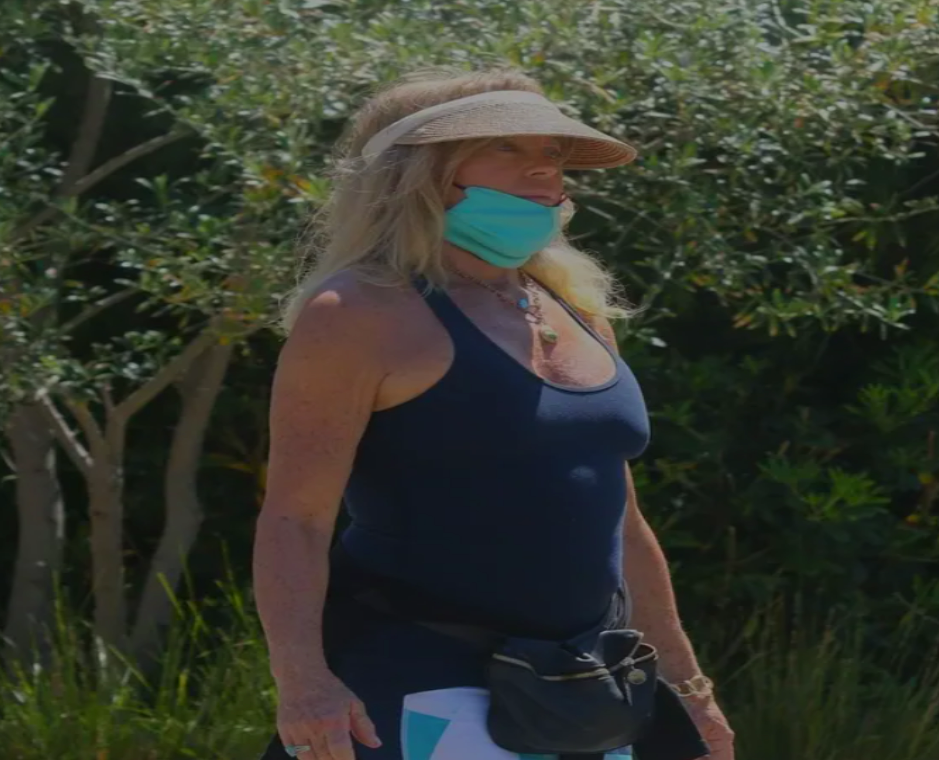mask_weared_incorrect: (346, 72, 622, 275)
